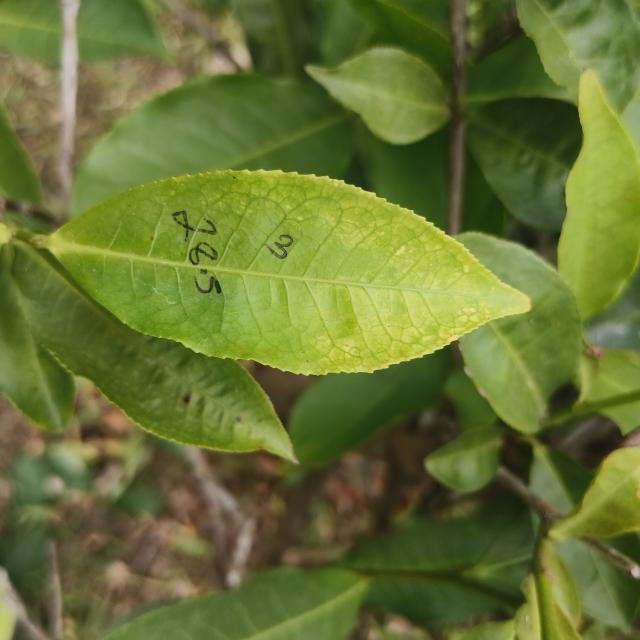Leaf: (43, 170, 530, 374), (9, 241, 293, 459), (71, 73, 353, 217), (457, 232, 582, 433), (340, 503, 533, 625), (558, 70, 640, 317), (103, 567, 367, 640), (288, 348, 450, 466), (466, 98, 581, 231), (516, 0, 640, 113), (0, 244, 74, 432), (306, 47, 449, 144), (550, 446, 640, 540), (554, 538, 640, 632), (77, 0, 166, 61), (425, 426, 501, 492), (529, 444, 593, 514), (0, 0, 62, 63), (606, 533, 640, 564)
